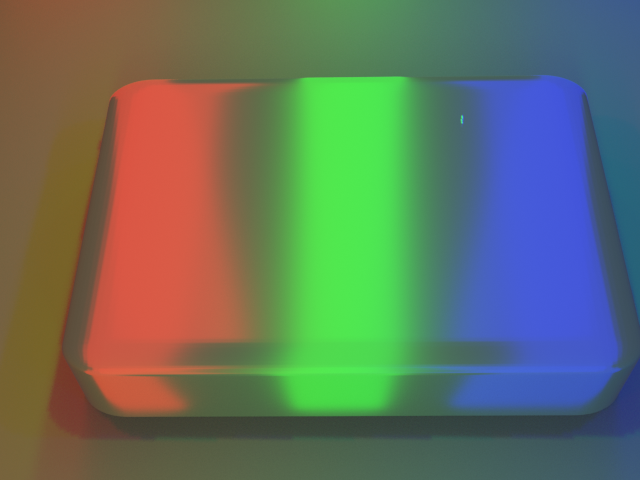scratch: (442, 85, 518, 125)
